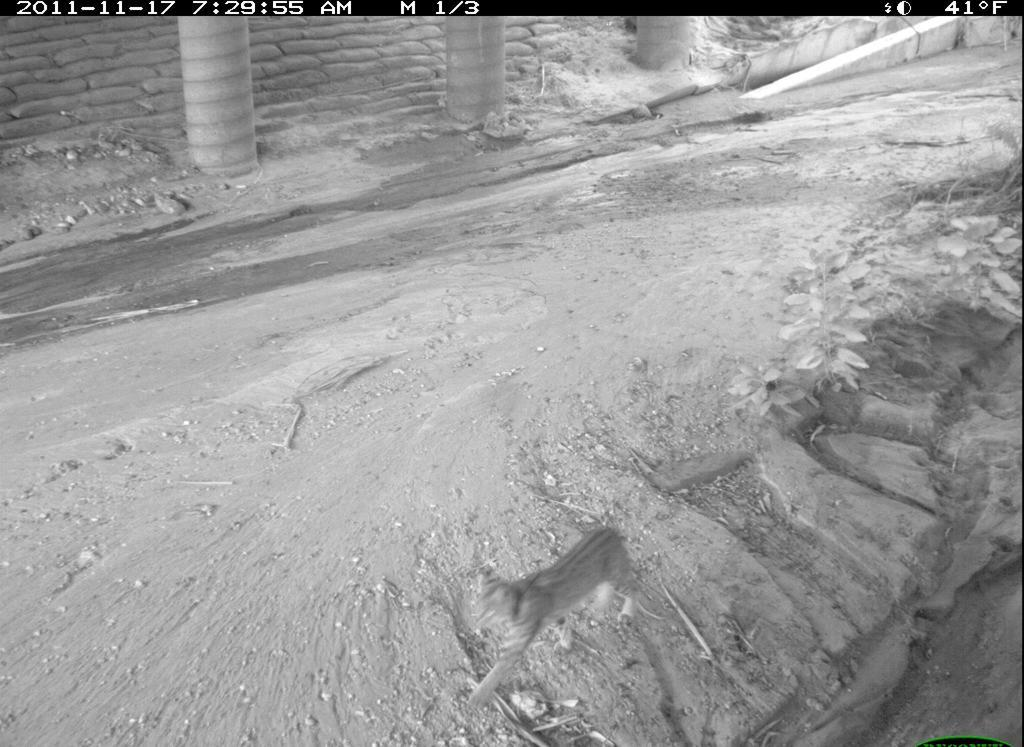bobcat: (466, 524, 655, 706)
